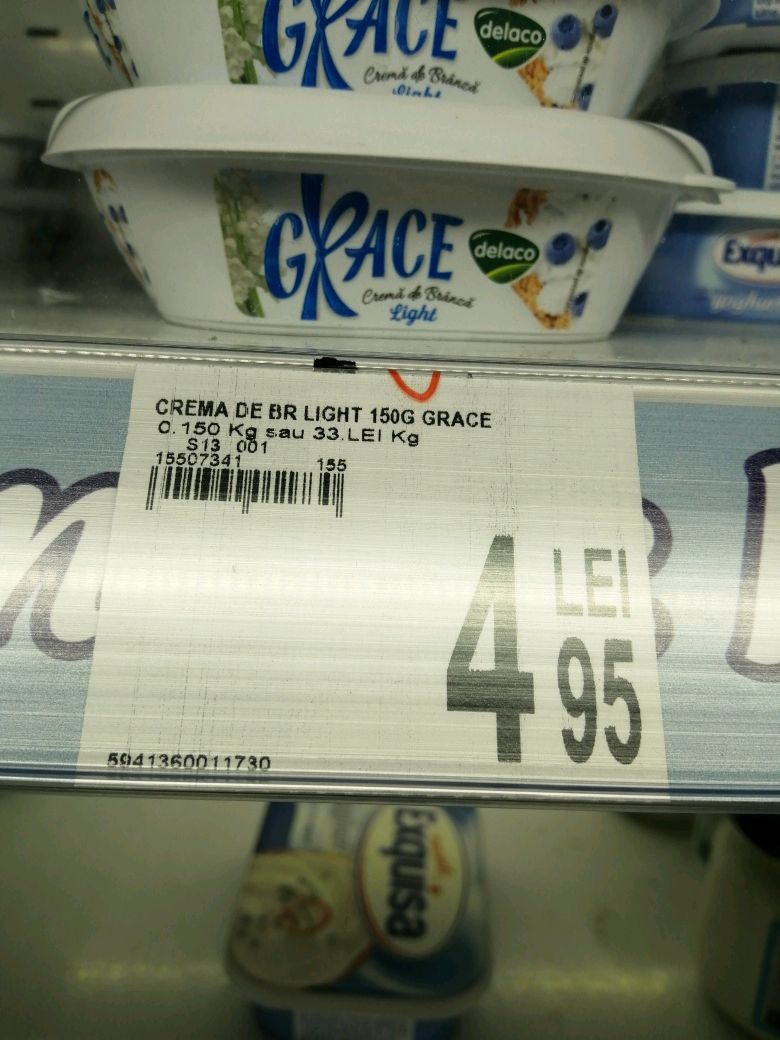price_bani: (548, 628, 656, 779)
price_lei: (441, 522, 543, 774)
price_tag: (66, 354, 684, 796)
product_id: (91, 742, 283, 775)
product_name: (141, 397, 534, 429)
